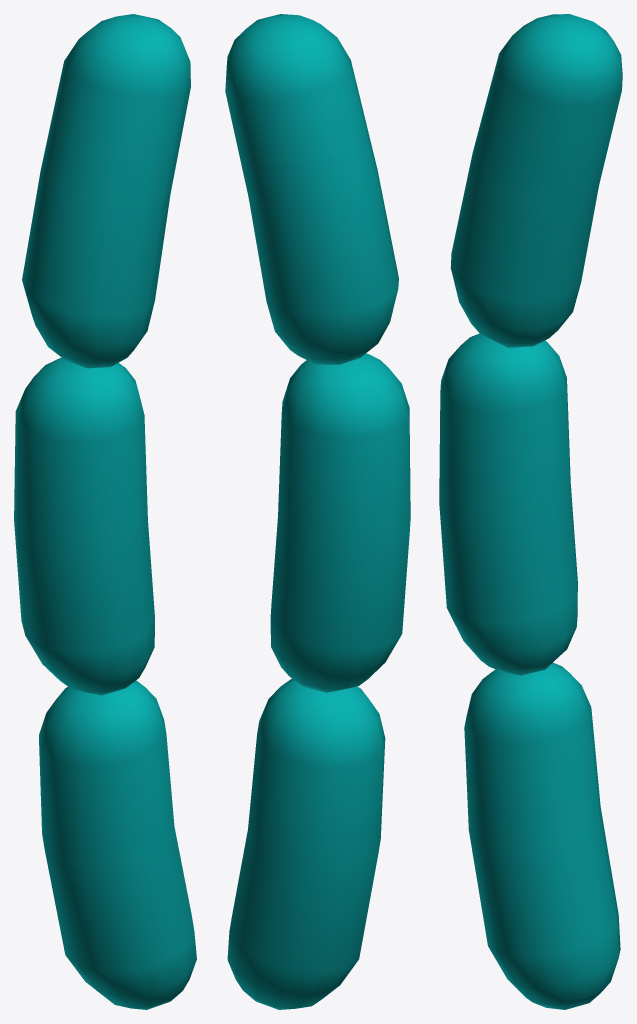
File: Capsule_contents_004.fbx
3 renders of one model, left to right at view 1: azimuth 30°, elevation 25°; view 2: azimuth 150°, elevation 25°; view 3: azimuth 330°, elevation 25°, orthographic.
Parts seen in each view (by area): view 1: Сapsule_contents_004; view 2: Сapsule_contents_004; view 3: Сapsule_contents_004.
Boxes of the visible parts, x1,y1,x2,y2 form: Сapsule_contents_004: [14, 14, 196, 1009]; Сapsule_contents_004: [225, 14, 410, 1009]; Сapsule_contents_004: [439, 14, 622, 1009].
Bounding box in the file's own units: 23.99 × 17.81 × 137.
